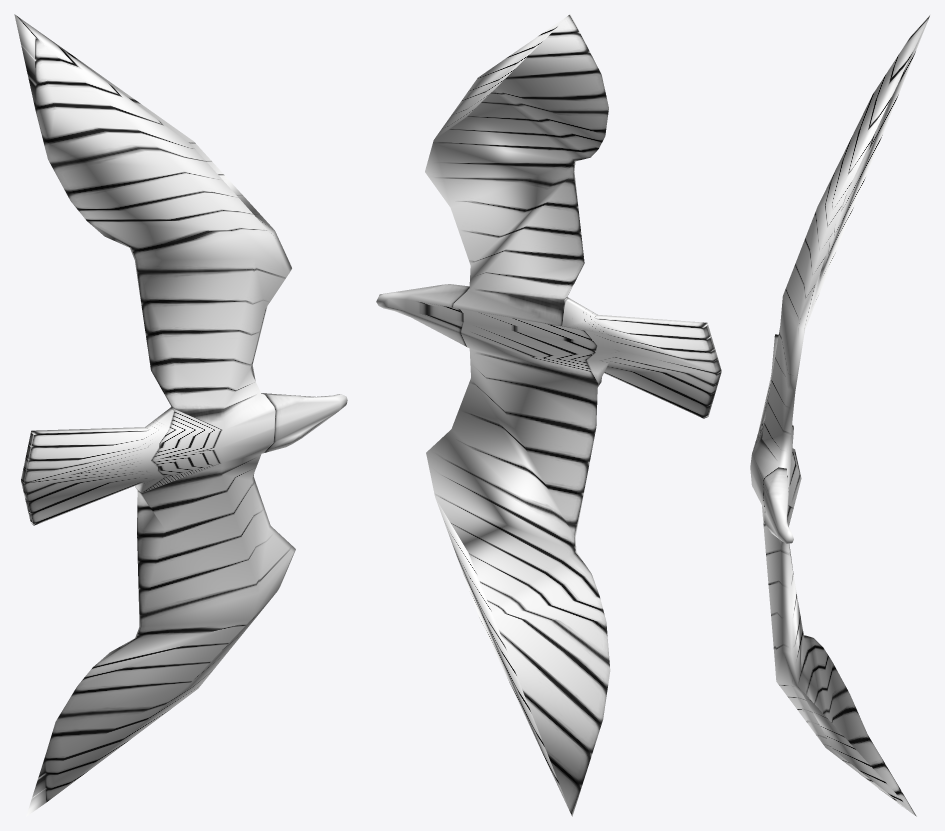
Rendered from seagull_000017.obj.
3 views of the same model, side by side, from view 1: azimuth 30°, elevation 25°; view 2: azimuth 150°, elevation 25°; view 3: azimuth 270°, elevation 25° (orthographic).
Visible parts, largest first — view 1: Seagull; view 2: Seagull; view 3: Seagull.
Boxes of the visible parts, bbox=[...] form: Seagull: bbox=[14, 14, 347, 816]; Seagull: bbox=[376, 14, 721, 816]; Seagull: bbox=[750, 14, 930, 816].
Size of the model in its own units: 0.5788 by 1.33 by 0.2725.
